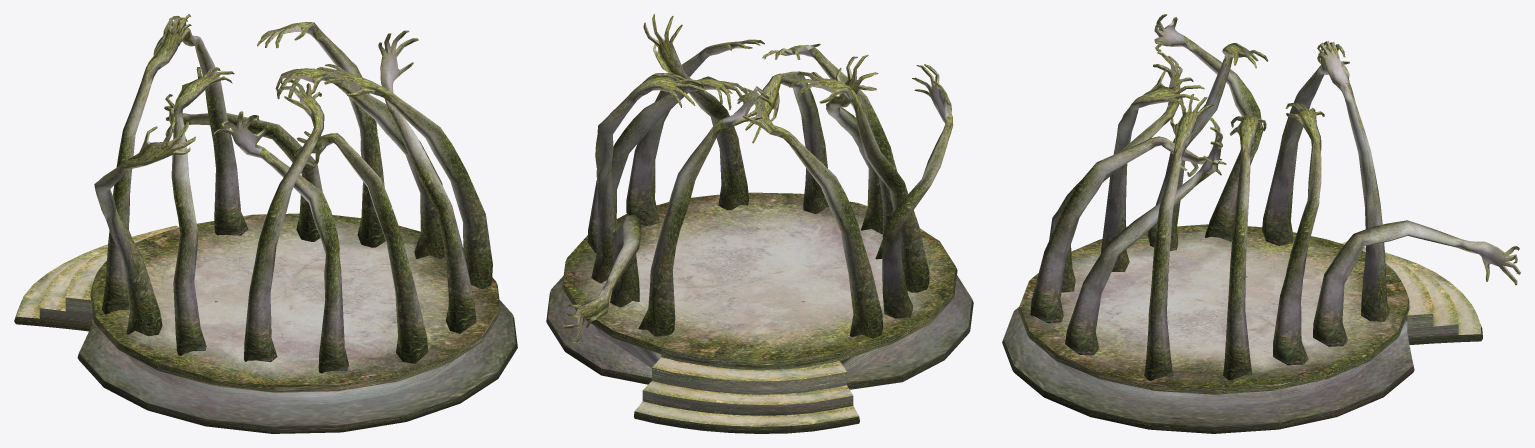
The model's file is Hand Statue.fbx.
The picture shows the model from 3 angles, left to right: view 1: azimuth 30°, elevation 25°; view 2: azimuth 150°, elevation 25°; view 3: azimuth 270°, elevation 25°; orthographic projection. The views are drawn at different scales.
Parts seen in each view (by area): view 1: MansionBaseScene14_ArmForest_CombinedMesh1; view 2: MansionBaseScene14_ArmForest_CombinedMesh1; view 3: MansionBaseScene14_ArmForest_CombinedMesh1.
Part boxes in pixels (x1=…): MansionBaseScene14_ArmForest_CombinedMesh1: x1=14, y1=14, x2=517, y2=433; MansionBaseScene14_ArmForest_CombinedMesh1: x1=546, y1=14, x2=973, y2=433; MansionBaseScene14_ArmForest_CombinedMesh1: x1=1002, y1=14, x2=1520, y2=433.
Bounding box in the file's own units: 206 × 150 × 252.
Materials: 1 (1 with a texture image).
